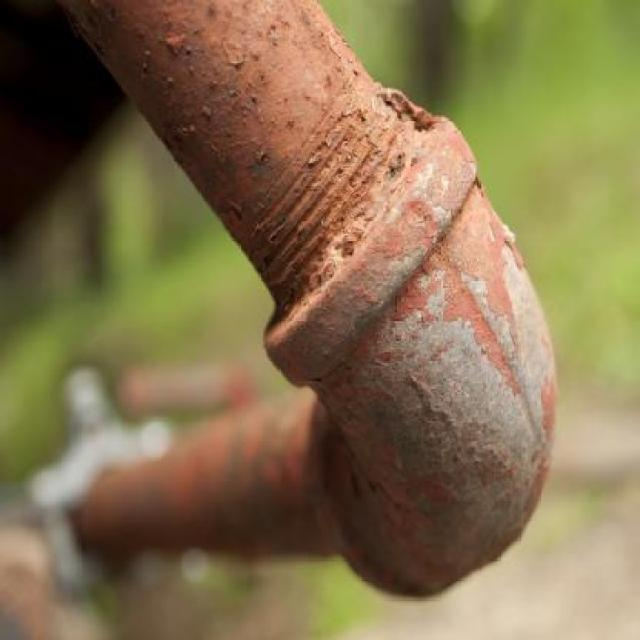corrosion: (48, 0, 554, 595)
